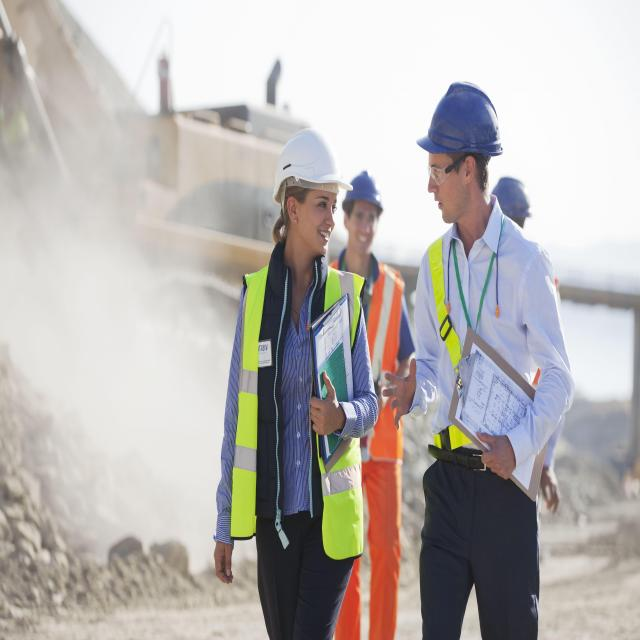Reflective-Jacket: (228, 262, 371, 562), (344, 255, 406, 468)
Safety-Helmet: (414, 78, 506, 161), (271, 121, 348, 202), (342, 165, 388, 216)
